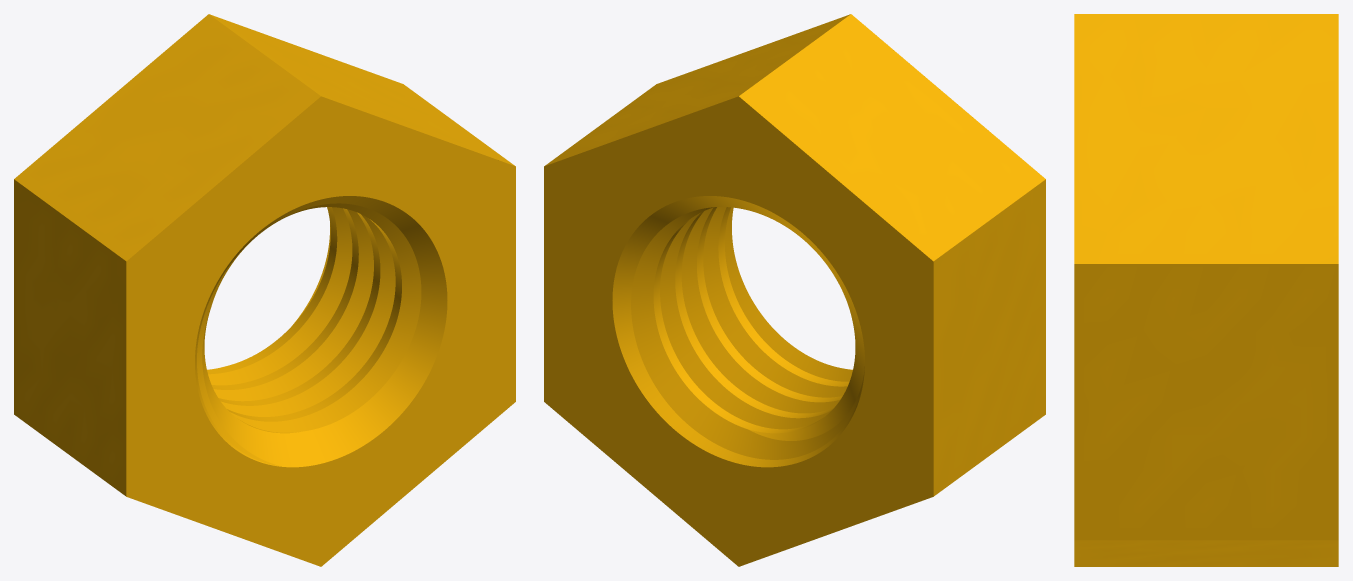
Rendered from factory_nut_m8_loose_subdiv_3x.obj.
3 views of the same model, side by side, from view 1: azimuth 30°, elevation 25°; view 2: azimuth 150°, elevation 25°; view 3: azimuth 270°, elevation 25° (orthographic). The views are drawn at different scales.
Parts seen in each view (by area): view 1: mesh5, mesh9, mesh10, mesh1, mesh3, mesh8, mesh2; view 2: mesh6, mesh9, mesh10, mesh0, mesh4, mesh8, mesh2; view 3: mesh7, mesh8, mesh12.
Boxes of the visible parts, <box> form: mesh5: <box>126,96,515,566</box>; mesh9: <box>14,14,320,261</box>; mesh10: <box>14,179,126,496</box>; mesh1: <box>197,203,421,466</box>; mesh3: <box>195,196,447,467</box>; mesh8: <box>209,14,515,166</box>; mesh2: <box>207,207,401,433</box>; mesh6: <box>544,96,933,566</box>; mesh9: <box>739,14,1045,261</box>; mesh10: <box>933,179,1045,496</box>; mesh0: <box>631,207,864,459</box>; mesh4: <box>612,196,864,467</box>; mesh8: <box>544,14,850,166</box>; mesh2: <box>653,207,852,433</box>; mesh7: <box>1074,264,1338,540</box>; mesh8: <box>1074,14,1338,263</box>; mesh12: <box>1074,540,1338,566</box>.
Bounding box in the file's own units: 0.013 × 0.015 × 0.0065.
